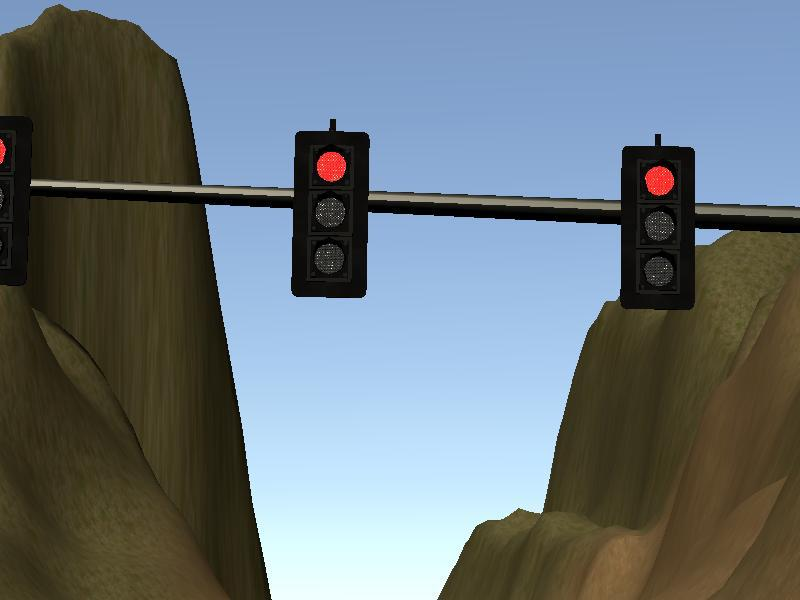Red: (296, 135, 364, 297), (625, 149, 691, 302)
